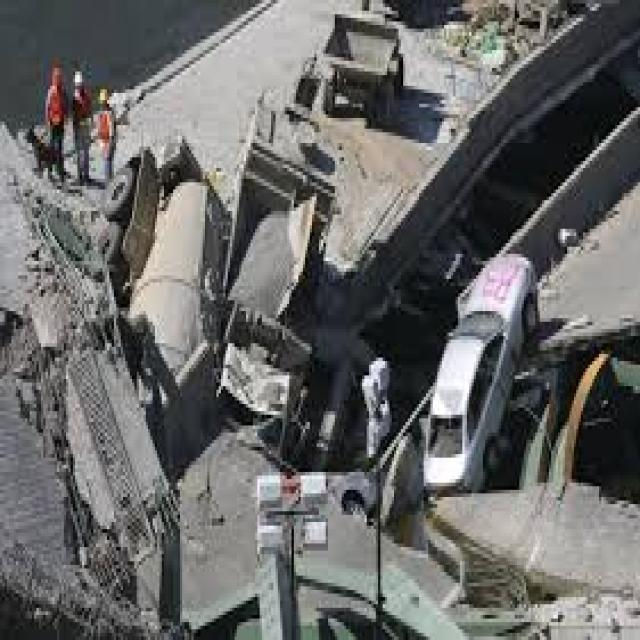bridge collapse: (0, 8, 640, 591)
